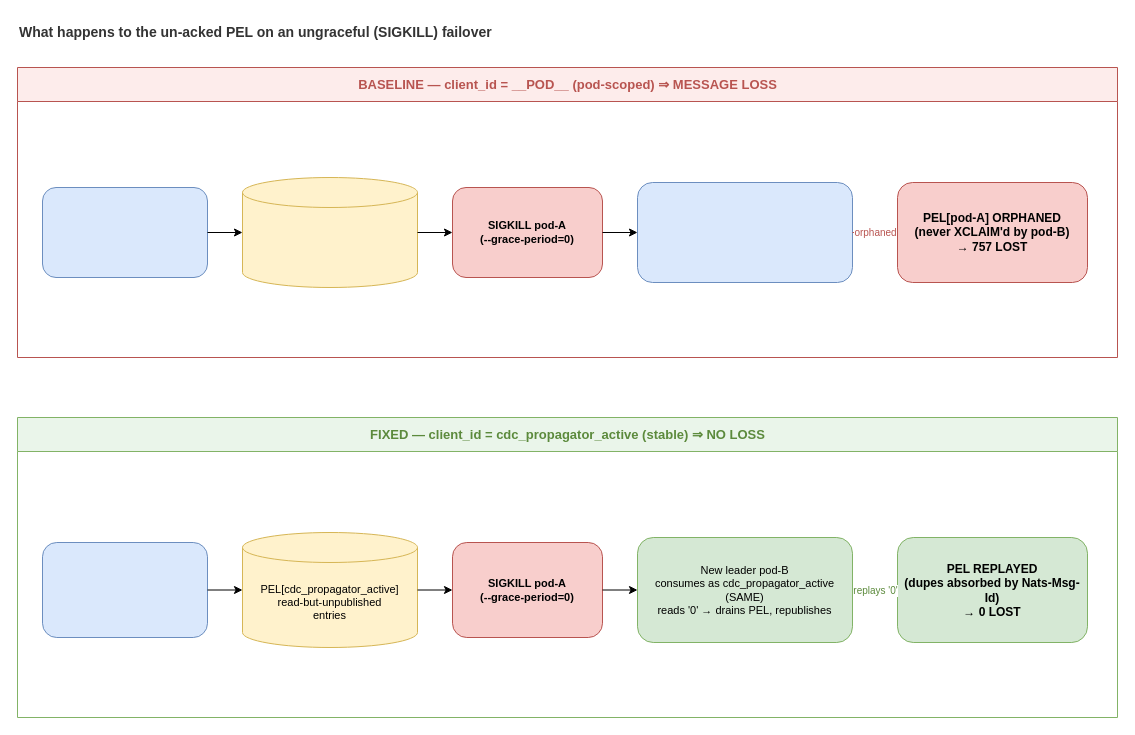
Image size: 1135x735. Some labels were removed from this diagram. The centre of each missing label's shape, as x and y in pixels:
"Leader pod-A consumes as cdc_propagator_active" goes at pixel 125 590.
"Leader pod-A consumes as pod-A" goes at pixel 125 232.
"New leader pod-B consumes as pod-B (NEW name) reads '>' only" goes at pixel 744 232.
"PEL[pod-A] read-but-unpublished entries" goes at pixel 330 232.
